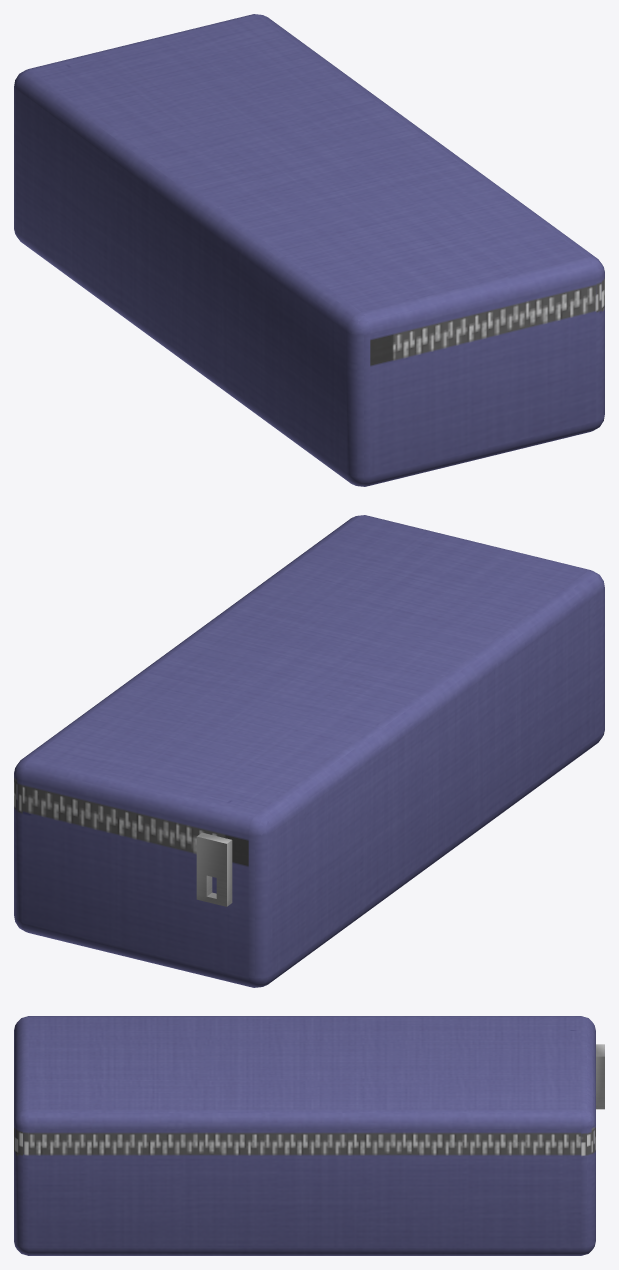
File: field_object_01.glb
3 renders of one model, top to bottom at view 1: azimuth 30°, elevation 25°; view 2: azimuth 150°, elevation 25°; view 3: azimuth 270°, elevation 25°, orthographic. The views are drawn at different scales.
Parts seen in each view (by area): view 1: obj1; view 2: obj1; view 3: obj1.
Boxes of the visible parts, x1,y1,x2,y2 form: obj1: (14, 14, 604, 486); obj1: (14, 515, 604, 987); obj1: (14, 1016, 604, 1255).
Bounding box in the file's own units: 8.5 × 5.5 × 20.31.
Materials: 1 (1 with a texture image).
